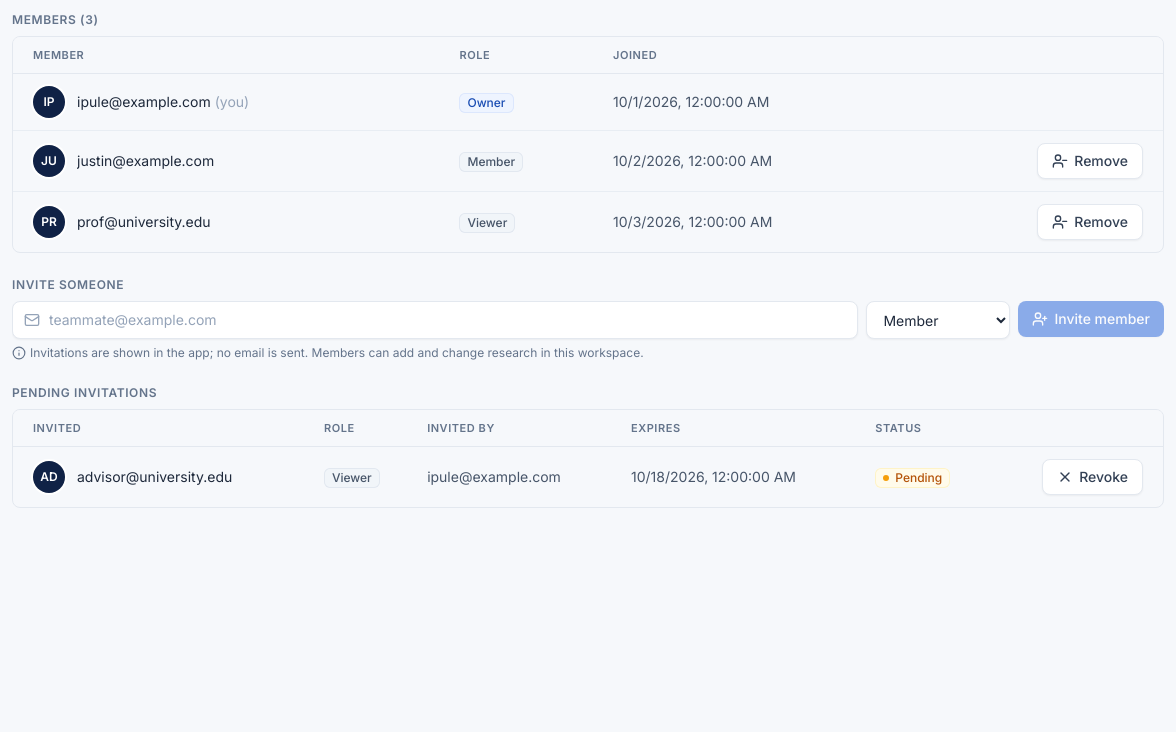
MembersPanel for an owner › invites a viewer
The image size is (1176, 732).
Type " prof2@university.edu " into the field named "Email address to invite" at (435,320), box [12,301,858,339]
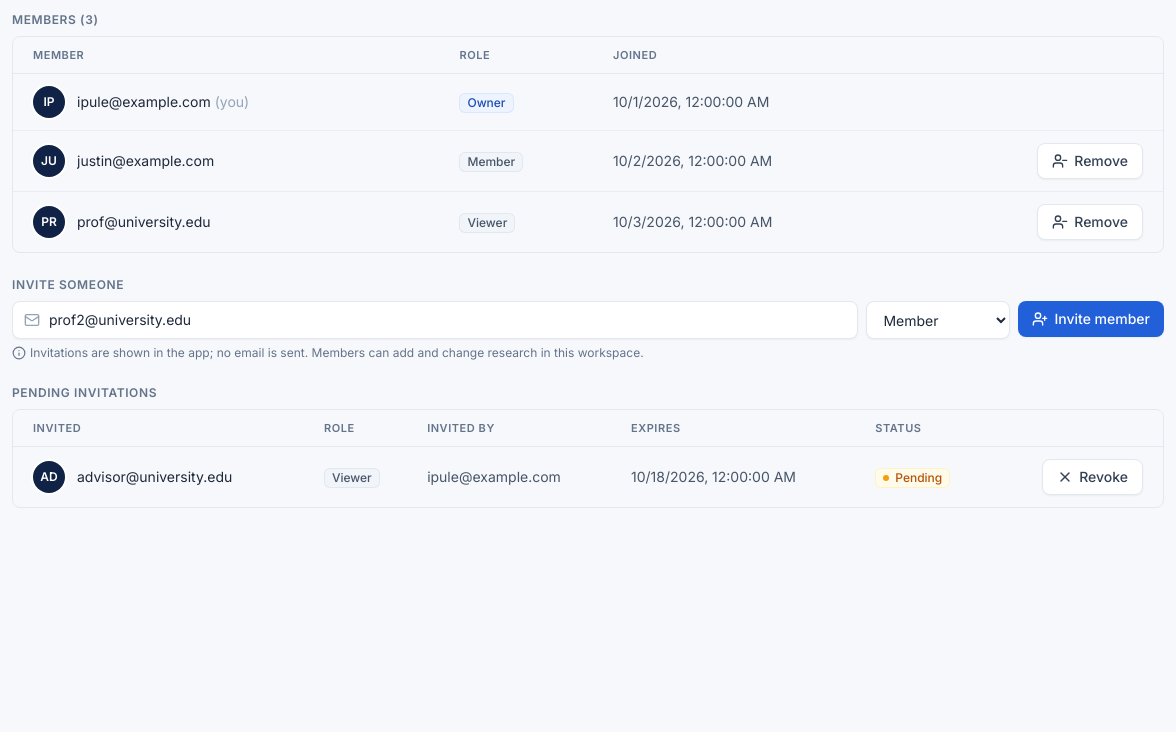
Select "Viewer" in the dropdown named "Role" at (938,320), box [866,301,1010,339]
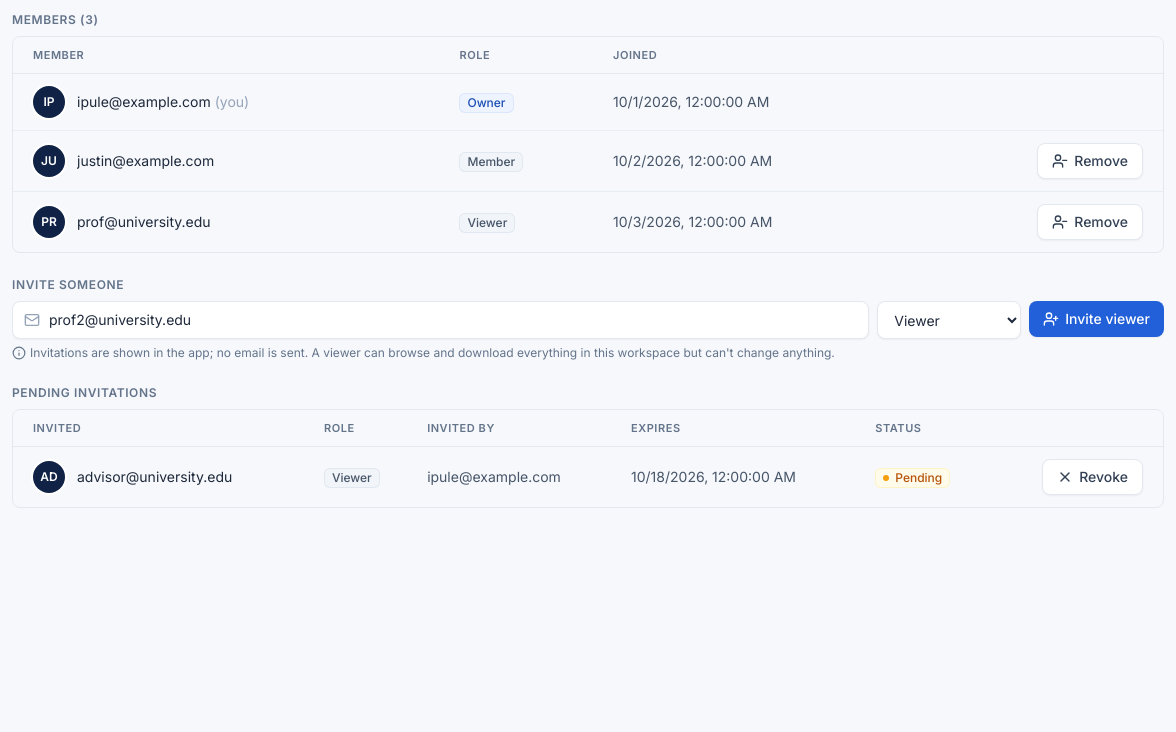
Expected: the text "can browse and download everything" is shown, [312,345,835,360]
Click the button "Invite viewer" at (1097,319), box [1029,301,1164,337]
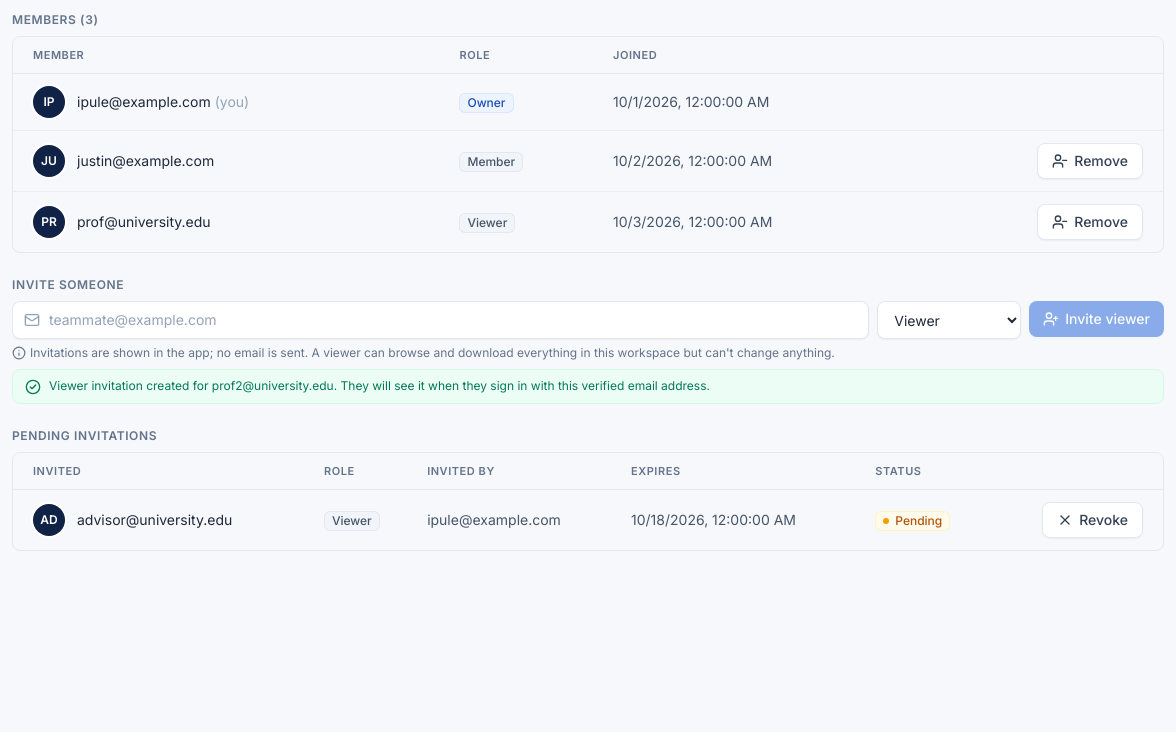
Expected: the text "Viewer invitation created for prof2@university.edu" is shown, [49,378,710,393]
